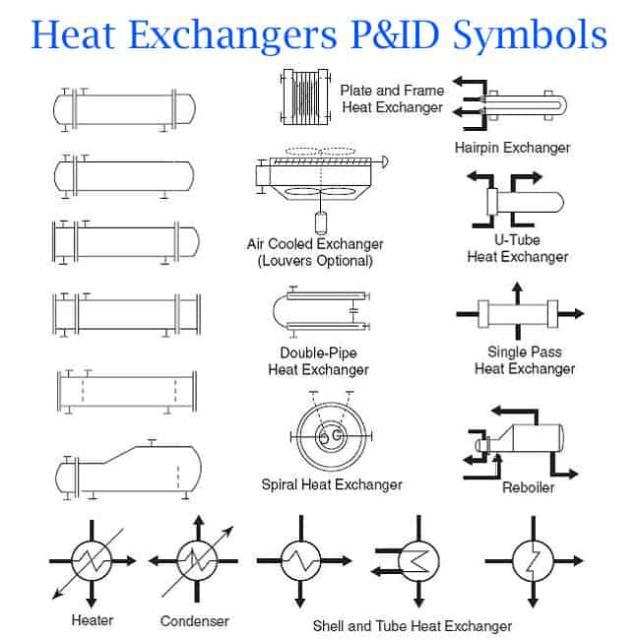Heat Exchanger: (35, 72, 221, 137)
